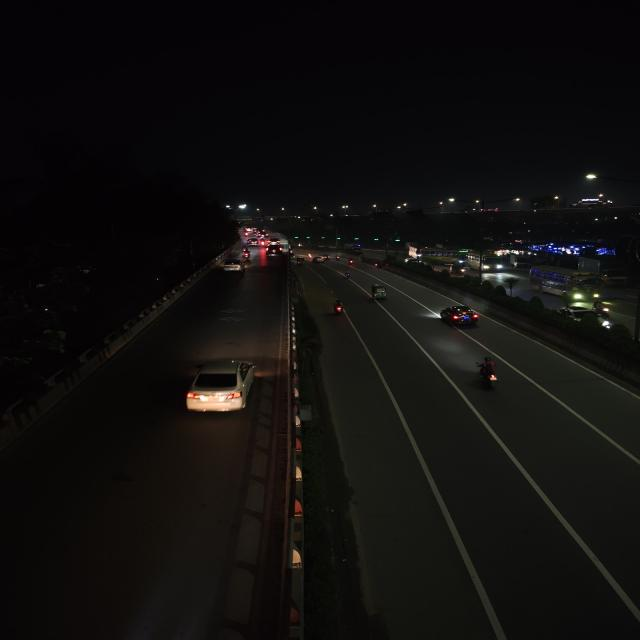bus: (527, 265, 603, 303), (419, 246, 470, 268), (469, 253, 507, 275)
car: (182, 356, 259, 419), (555, 304, 613, 332), (439, 302, 482, 329), (222, 258, 245, 274), (266, 244, 281, 256), (295, 257, 307, 266)
cng: (370, 282, 390, 302), (447, 262, 466, 278)
motorcycle: (471, 355, 505, 397), (329, 298, 347, 318), (241, 248, 252, 260), (346, 257, 359, 267), (372, 260, 384, 270), (343, 269, 353, 280), (334, 255, 341, 262)
truck: (579, 256, 628, 284)
